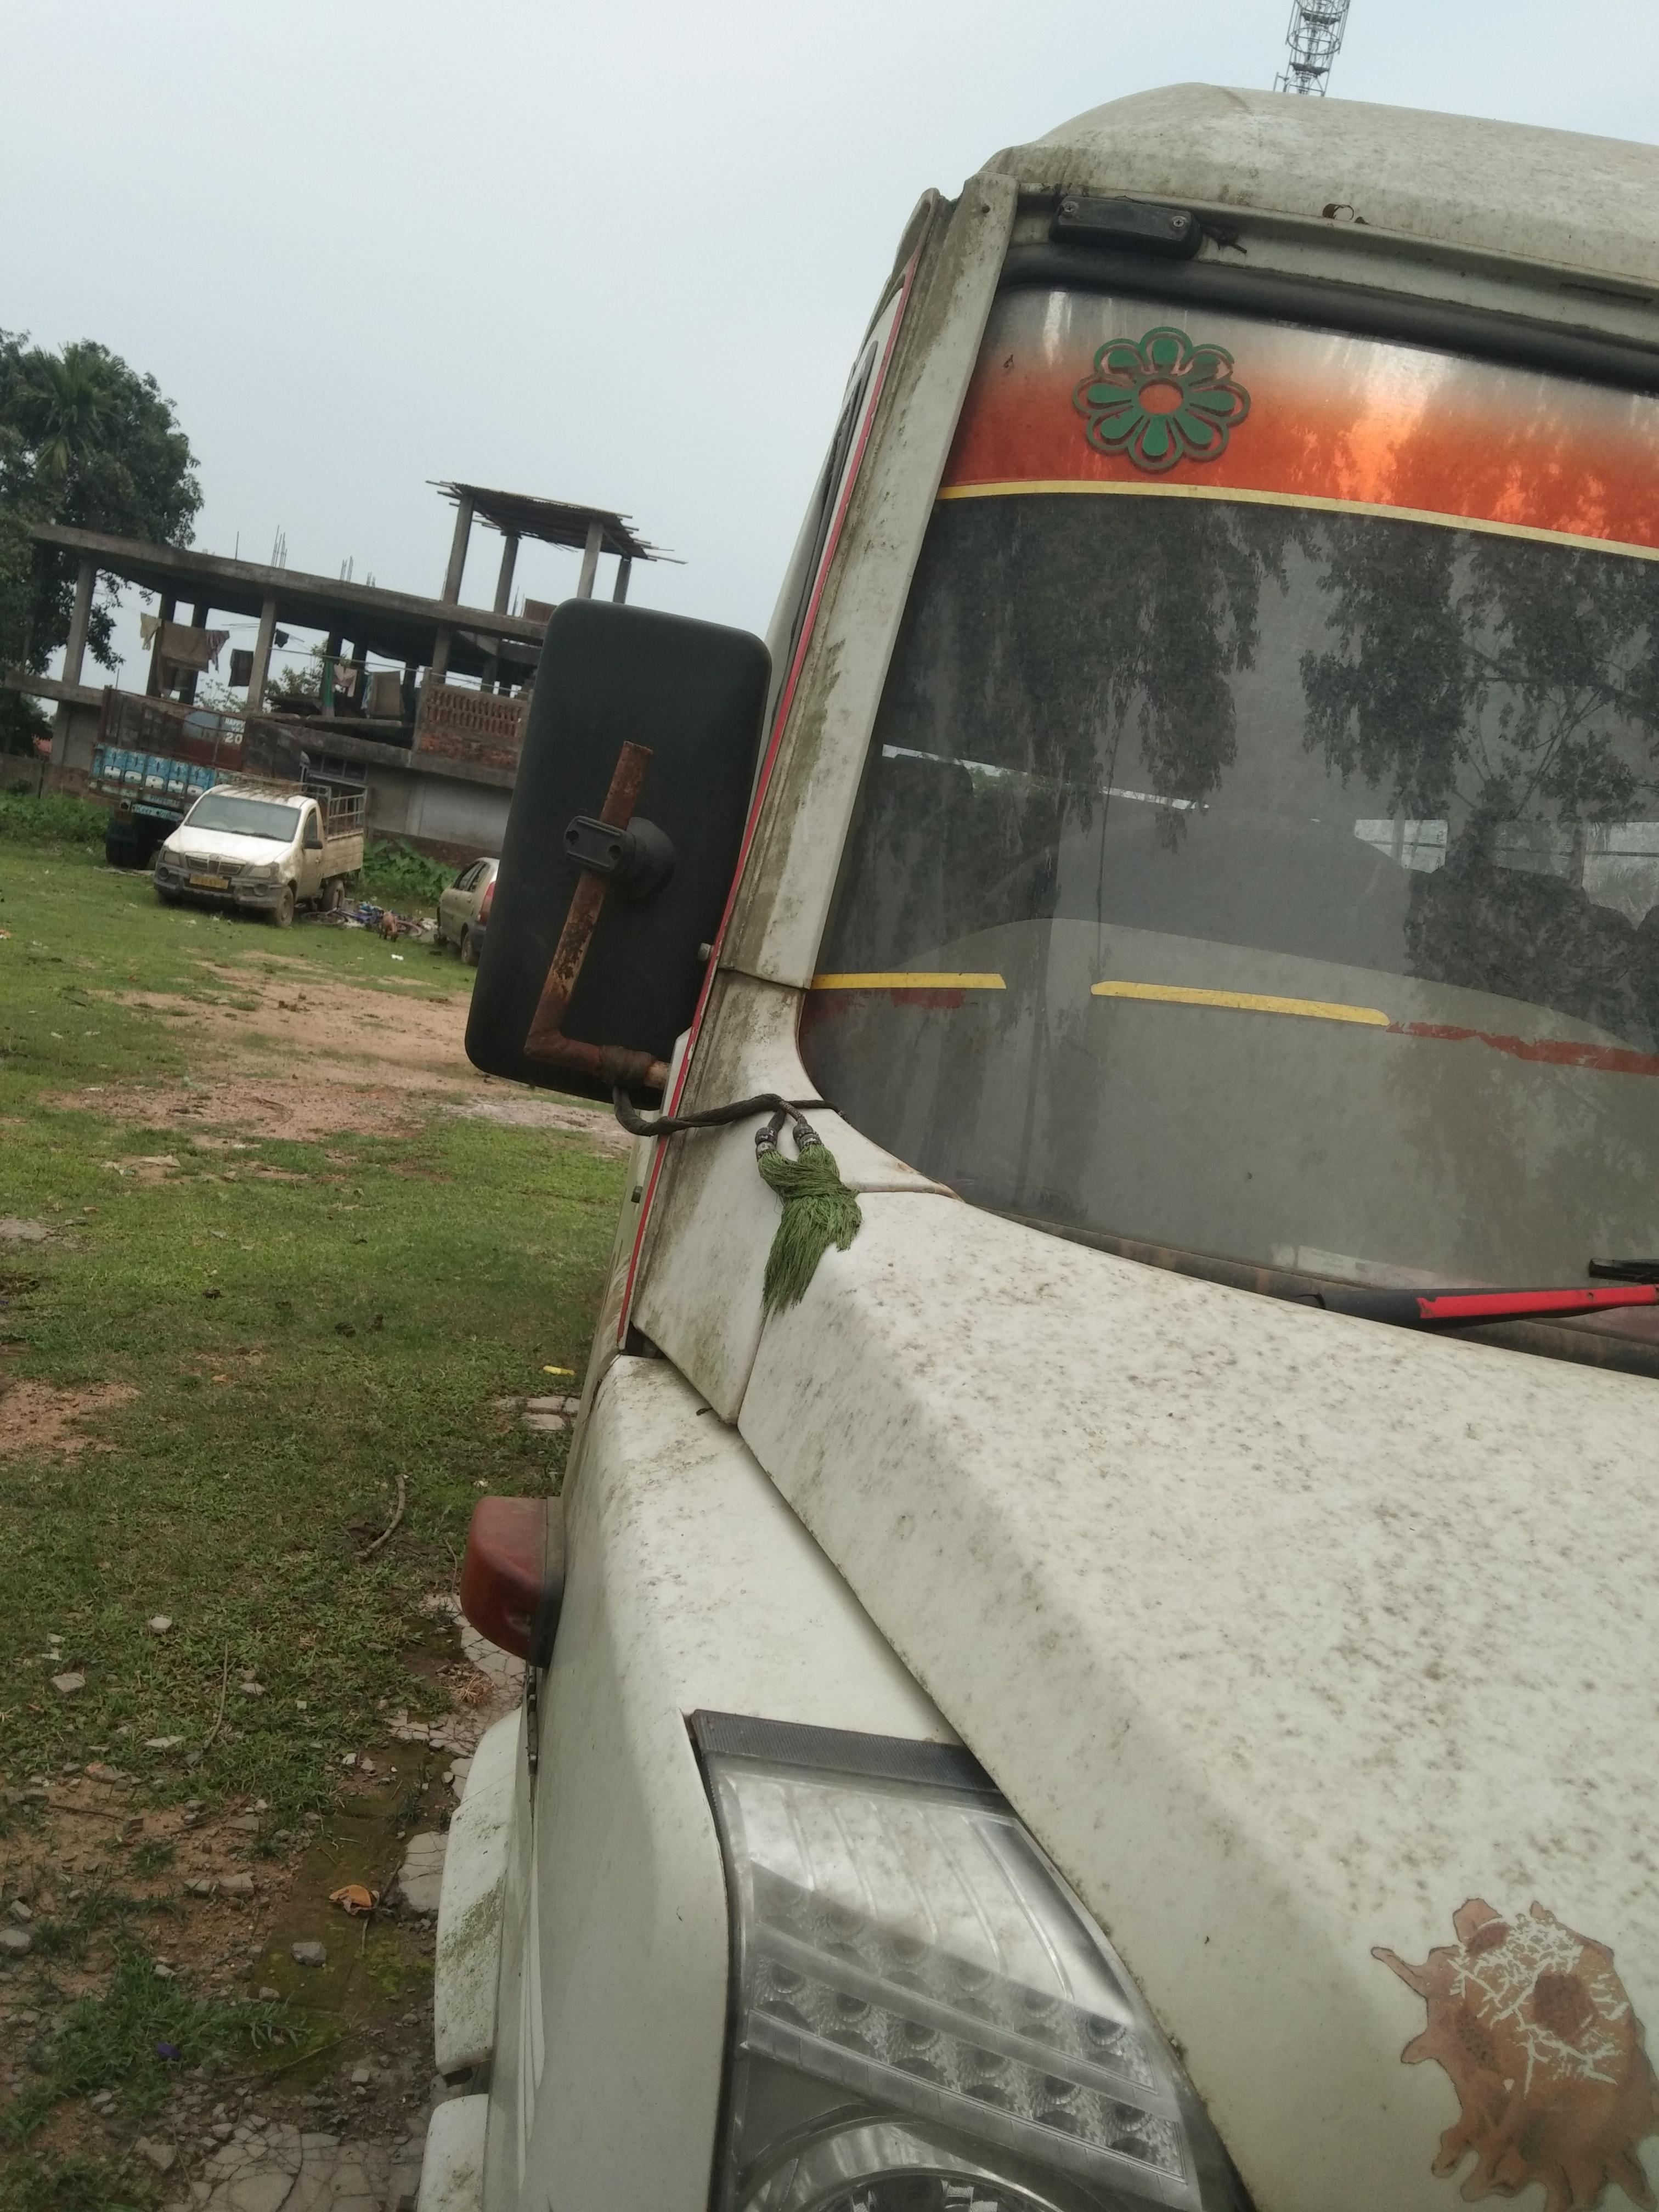Auto: (150, 775, 383, 921)
Truck: (89, 690, 315, 860)
